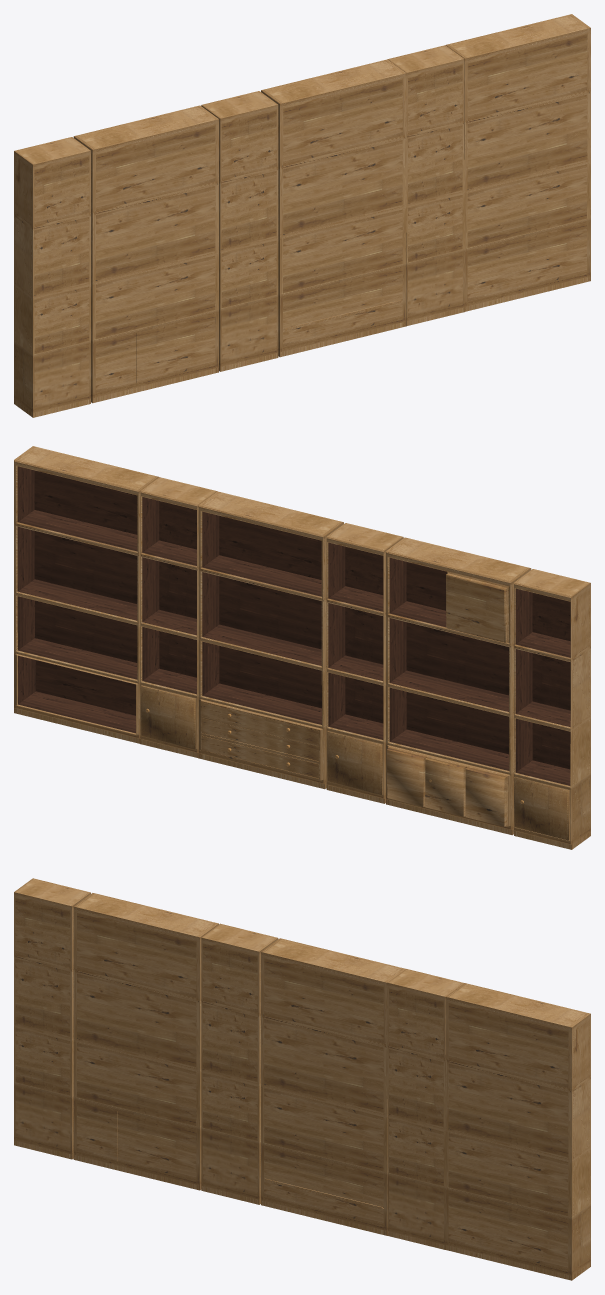
File: Schrank_mit_Schubladen_und_tueren.fbx
The picture shows the model from 3 angles, top to bottom: view 1: azimuth 30°, elevation 25°; view 2: azimuth 150°, elevation 25°; view 3: azimuth 330°, elevation 25°; orthographic projection.
Visible parts, largest first — view 1: Schrank1_2, Schrank1_4, Schrank1_1, Schrank1_5, Schrank1_3, Schrank1; view 2: Schrank1_1, Schrank1_2, Schrank1_4, Schrank1_5, Schrank1_3, Schrank1, Schranktü, Schranktür_1, Schranktür_3, Schranktür_2, Schranktü_1, Schranktü_2 (+4 smaller); view 3: Schrank1_1, Schrank1_4, Schrank1_2, Schrank1_3, Schrank1_5, Schrank1.
Boxes of the visible parts, x1=… form: Schrank1_2: x1=261, y1=59, x2=406, y2=357; Schrank1_4: x1=73, y1=105, x2=218, y2=403; Schrank1_1: x1=446, y1=14, x2=590, y2=311; Schrank1_5: x1=14, y1=137, x2=90, y2=417; Schrank1_3: x1=201, y1=91, x2=278, y2=371; Schrank1: x1=387, y1=45, x2=464, y2=326; Schrank1_1: x1=14, y1=446, x2=158, y2=743; Schrank1_2: x1=198, y1=491, x2=343, y2=789; Schrank1_4: x1=386, y1=537, x2=531, y2=835; Schrank1_5: x1=514, y1=569, x2=590, y2=849; Schrank1_3: x1=326, y1=523, x2=403, y2=803; Schrank1: x1=140, y1=477, x2=217, y2=758; Schranktü: x1=446, y1=574, x2=506, y2=642; Schranktür_1: x1=140, y1=686, x2=195, y2=749; Schranktür_3: x1=514, y1=777, x2=569, y2=840; Schranktür_2: x1=327, y1=731, x2=382, y2=794; Schranktü_1: x1=465, y1=768, x2=505, y2=826; Schranktü_2: x1=425, y1=758, x2=465, y2=816; Schrank1_1: x1=445, y1=983, x2=590, y2=1280; Schrank1_4: x1=73, y1=893, x2=218, y2=1190; Schrank1_2: x1=261, y1=938, x2=405, y2=1235; Schrank1_3: x1=201, y1=923, x2=278, y2=1204; Schrank1_5: x1=14, y1=878, x2=90, y2=1159; Schrank1: x1=387, y1=969, x2=463, y2=1249.
Bounding box in the file's own units: 475 × 207 × 34.48.
Materials: 7 (7 with a texture image).
